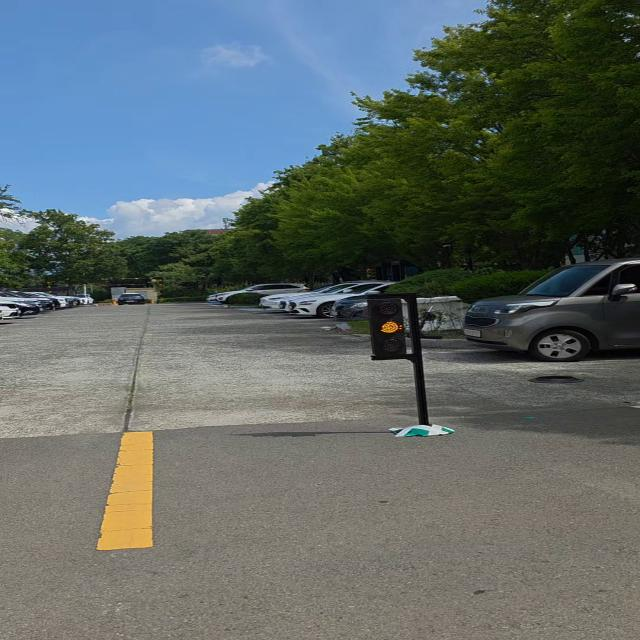yellow: (364, 292, 410, 363)
